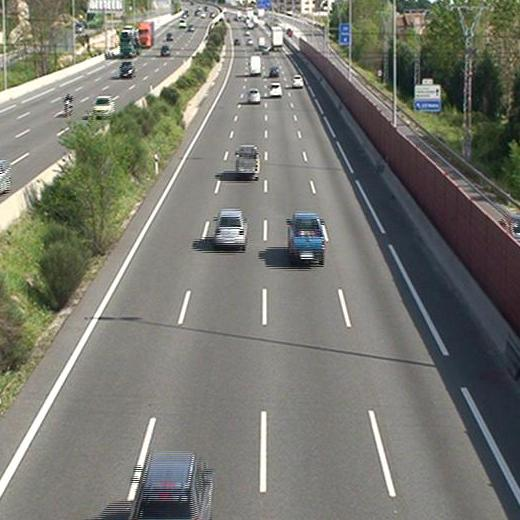car: (129, 454, 211, 520), (287, 212, 324, 263), (214, 209, 247, 245), (235, 145, 260, 178), (269, 82, 282, 97), (246, 89, 260, 102), (292, 74, 303, 87), (269, 66, 280, 75)
van: (249, 56, 260, 75)
